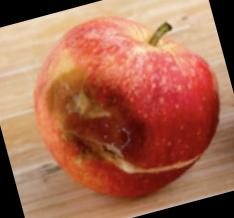Apple: (36, 19, 216, 198)
